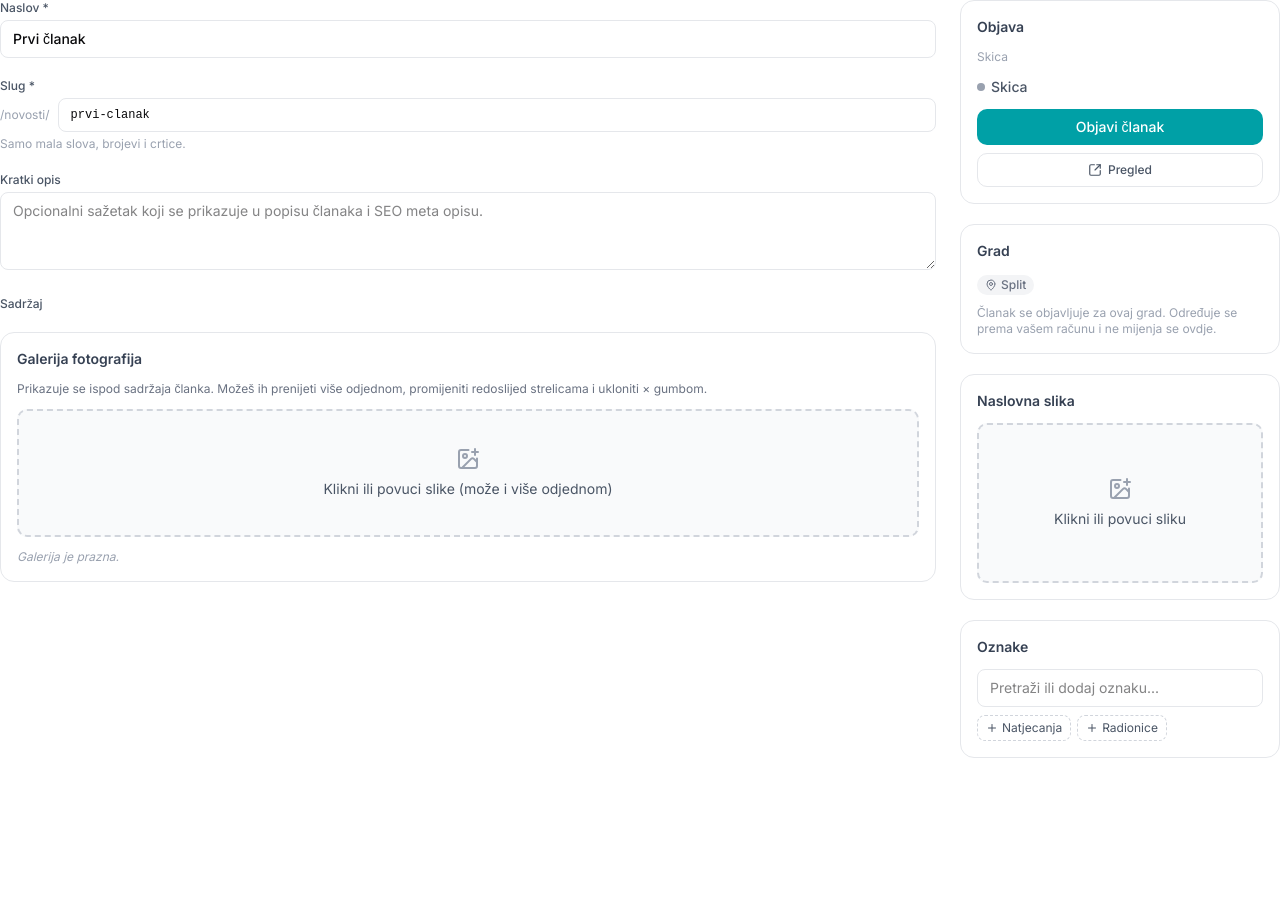
Test case: ArticleForm — tag picker › offers every unselected oznaka as a chip and promotes a clicked one to a pill
Check: the button "Radionice" is shown, box [1077, 715, 1167, 741]
Click the button "Natjecanja": {"x": 1024, "y": 728} [977, 715, 1071, 741]
Wait 6000 ms
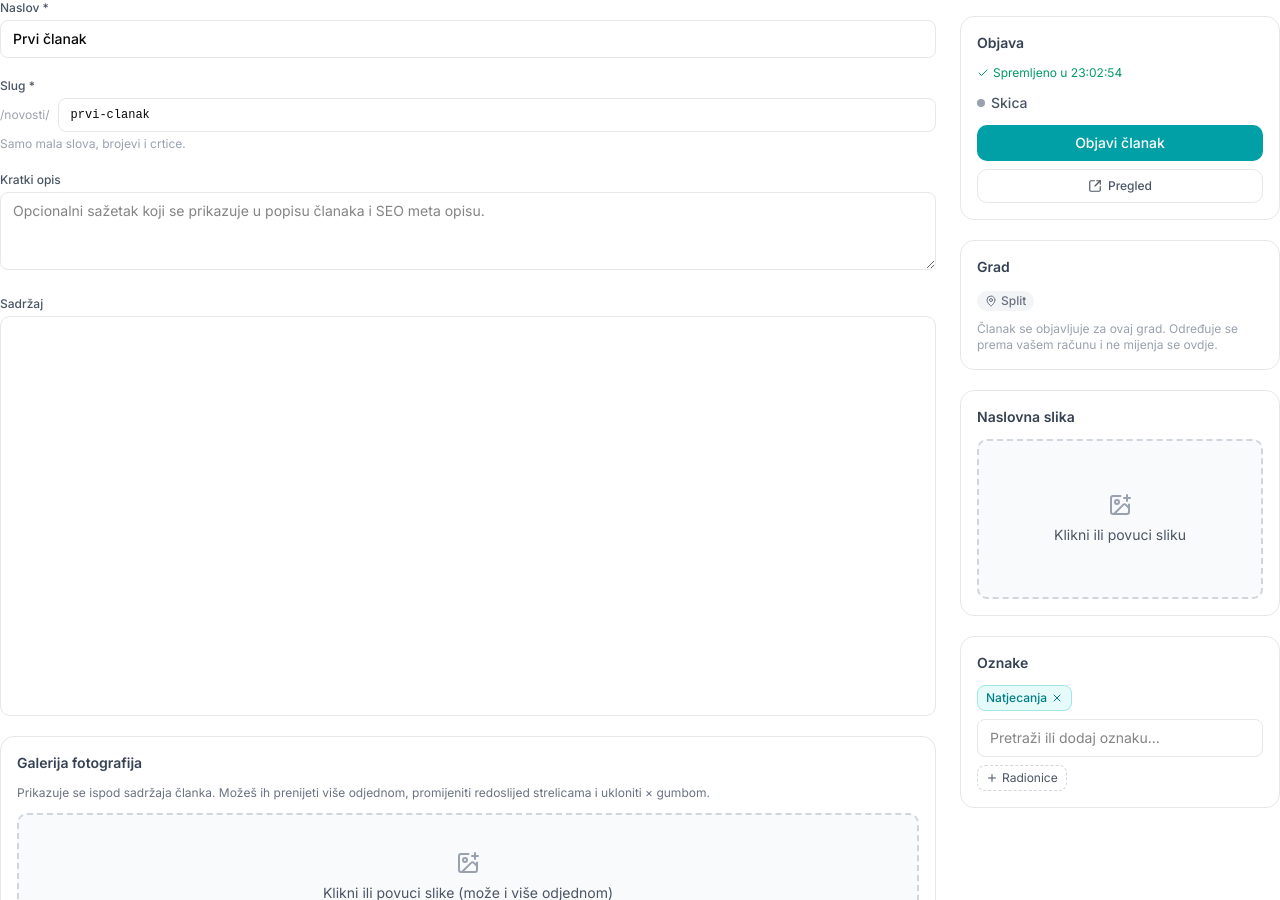
Check: the button "Radionice" is shown, box [977, 765, 1067, 791]
Check: the button named "Ukloni Natjecanja" is shown, box [1051, 692, 1063, 704]
